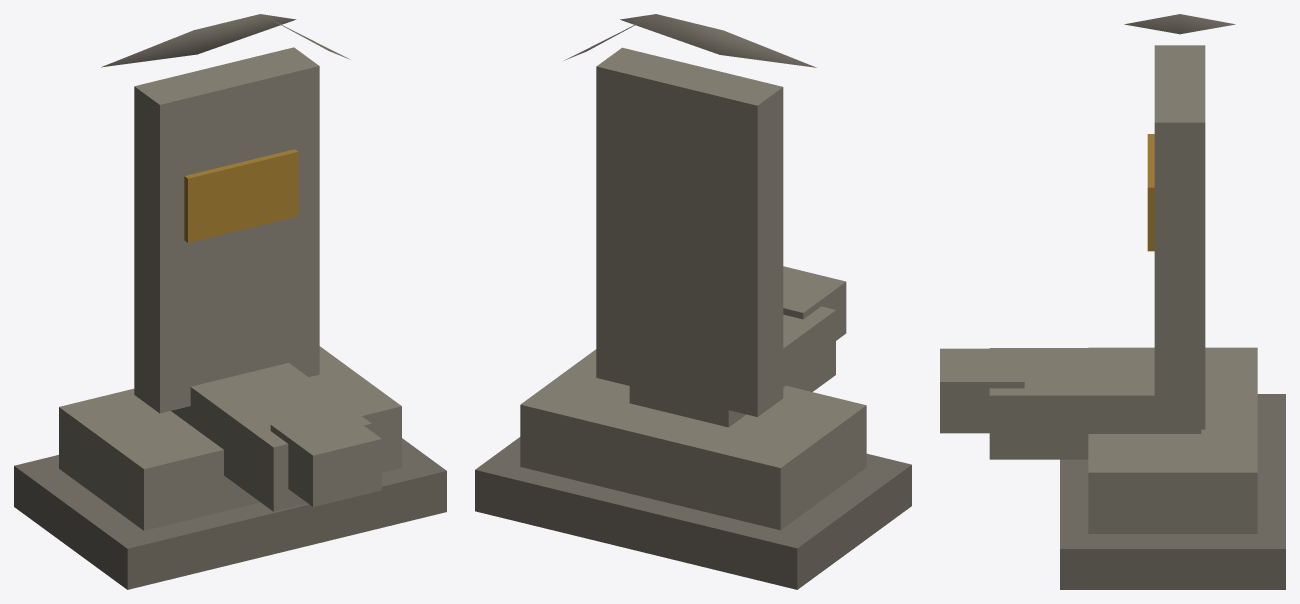
Rendered from tang-stele.glb.
The picture shows the model from 3 angles, left to right: view 1: azimuth 30°, elevation 25°; view 2: azimuth 150°, elevation 25°; view 3: azimuth 270°, elevation 25°; orthographic projection.
Visible parts, largest first — view 1: tang-stele; view 2: tang-stele; view 3: tang-stele.
Boxes of the visible parts, x1,y1,x2,y2 form: tang-stele: [14, 14, 446, 589]; tang-stele: [475, 14, 911, 589]; tang-stele: [940, 14, 1285, 589].
Size of the model in its own units: 2.6 by 3.77 by 2.45.
